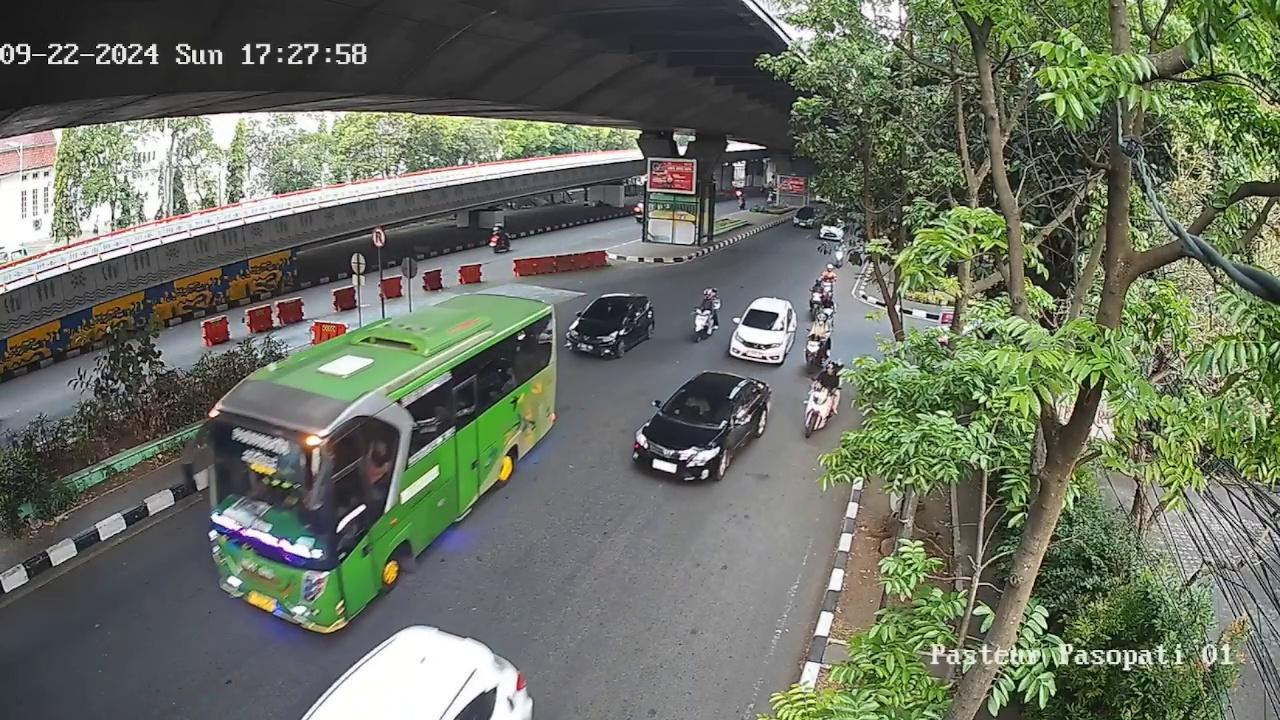tidak-pakai: (684, 395, 713, 418)
windshield: (663, 384, 731, 423), (739, 306, 788, 334), (582, 300, 628, 326)
